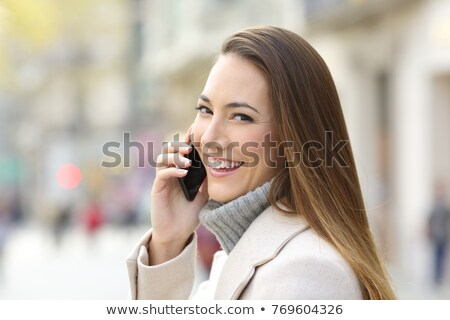phone: (161, 141, 204, 203)
talk: (147, 81, 274, 229)
